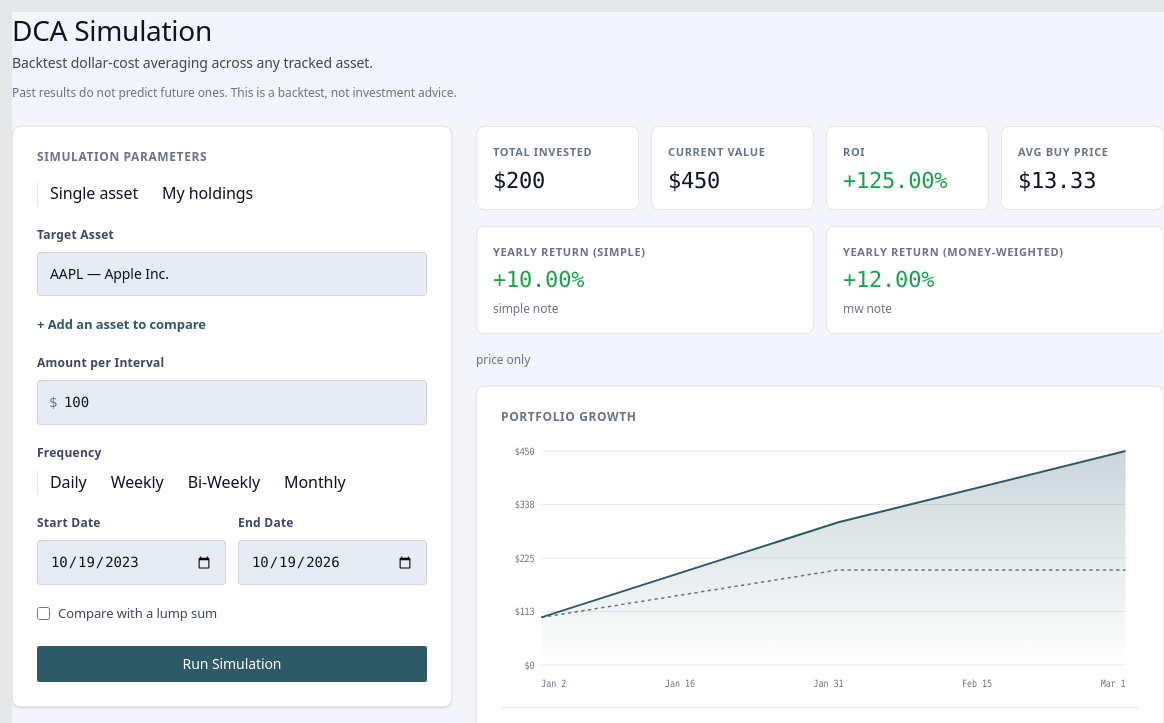
Test: DCASimulation page › flags a cleared amount next to the field, sends nothing, and keeps the last result
Expected: the text "mw note" is shown, [843, 300, 892, 316]
Clear the number field with id "dca-amount" at {"x": 232, "y": 402}, box [37, 380, 427, 424]
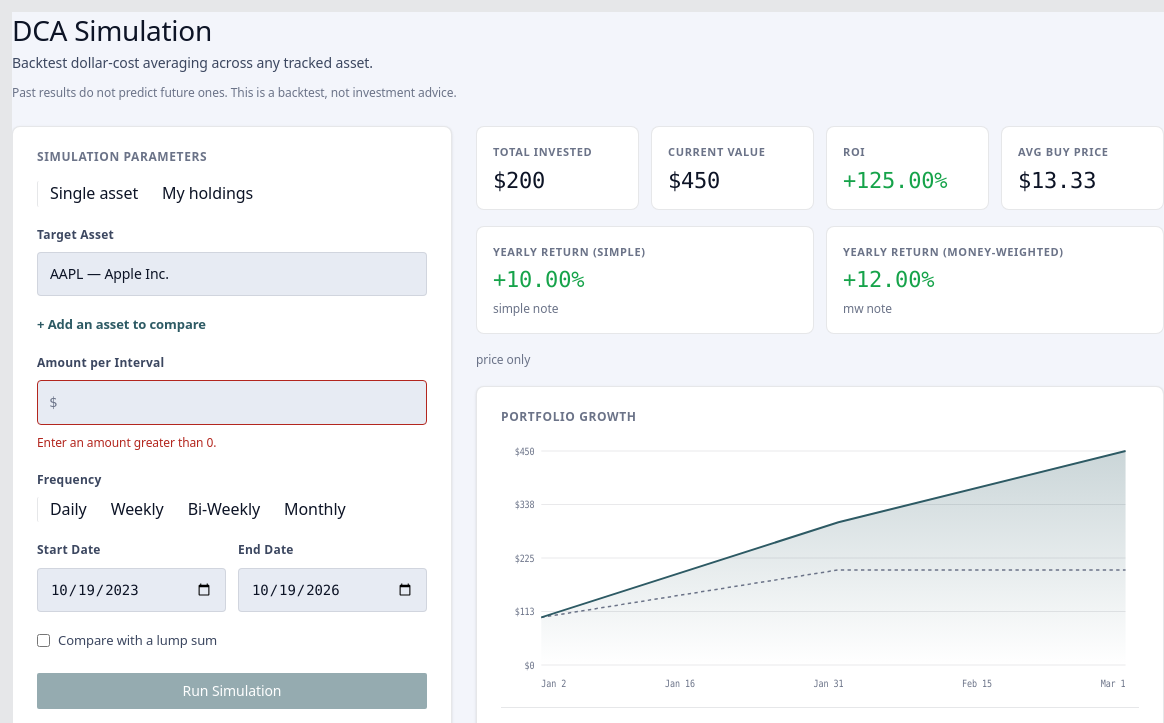
Expected: the text "mw note" is shown, [843, 300, 892, 316]
Now the text "Enter an amount greater than 0." is shown, box [37, 434, 216, 450]
Now the button "Run Simulation" is disabled, box [37, 673, 427, 709]
